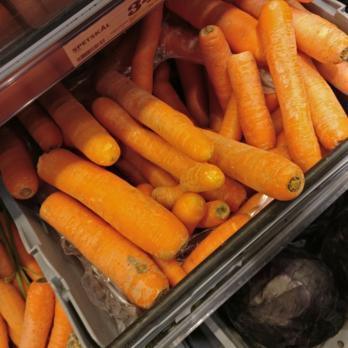Carrot: (46, 82, 306, 201), (156, 0, 347, 159), (4, 125, 174, 302), (0, 212, 46, 345)
